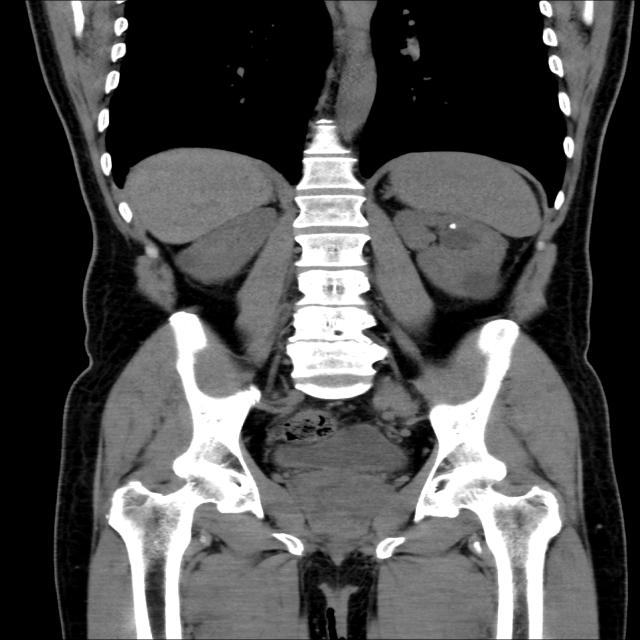kidneystone: (448, 222, 457, 230)
